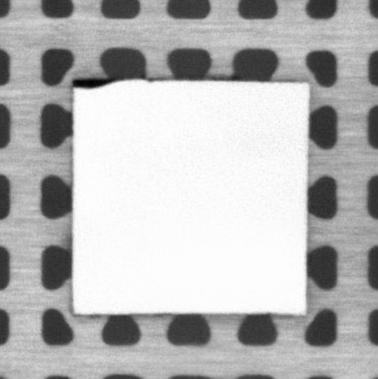DIE_BROKEN: (71, 76, 116, 90)
